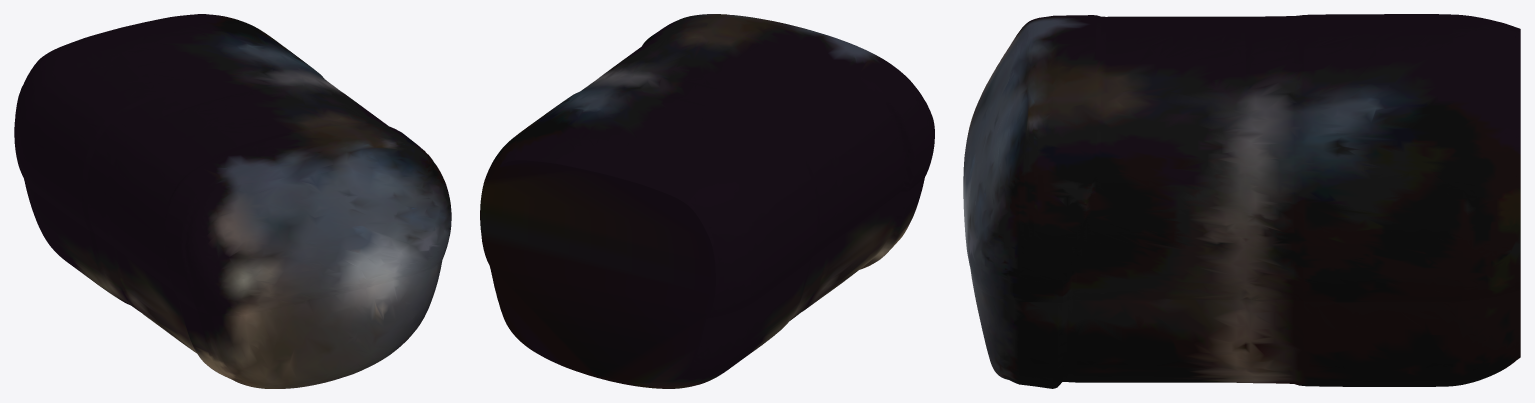
The model's file is component_006_device.glb.
The picture shows the model from 3 angles, left to right: view 1: azimuth 30°, elevation 25°; view 2: azimuth 150°, elevation 25°; view 3: azimuth 270°, elevation 25°; orthographic projection. The views are drawn at different scales.
Parts seen in each view (by area): view 1: 006_device_000_instance_000_photo_-01; view 2: 006_device_000_instance_000_photo_-01; view 3: 006_device_000_instance_000_photo_-01.
Part boxes in pixels (box(x1,y1,x2,y2)): 006_device_000_instance_000_photo_-01: box(14, 14, 451, 388); 006_device_000_instance_000_photo_-01: box(480, 14, 934, 388); 006_device_000_instance_000_photo_-01: box(963, 14, 1520, 388).
Size of the model in its own units: 0.0957 by 0.0785 by 0.1317.
